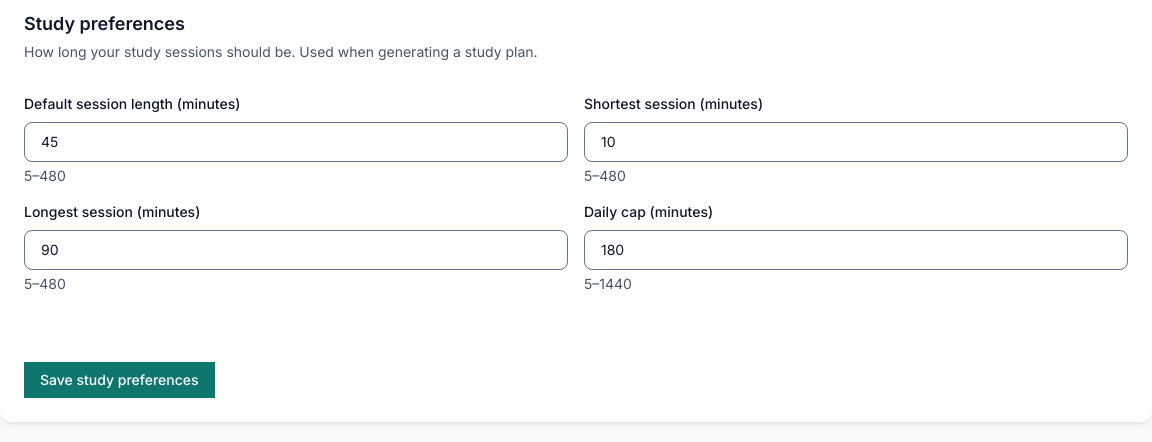
Test: StudyPreferencesForm validation › blocks submit on an out-of-range value and names the field
Replace the text in the number field labelled "Default session length (minutes)" with "600" at point(296, 142), box [24, 122, 568, 162]
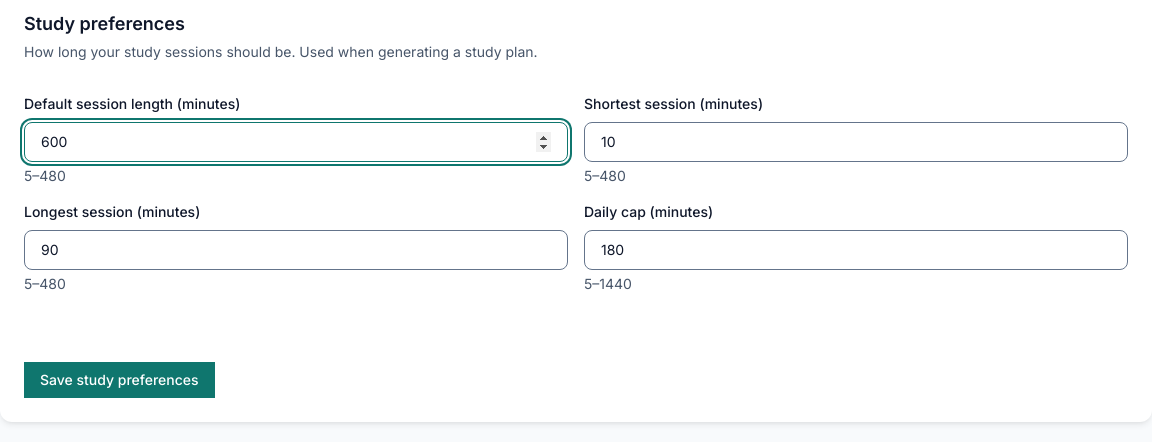
Click the button "Save study preferences".
click(119, 380)  # box [24, 362, 215, 398]
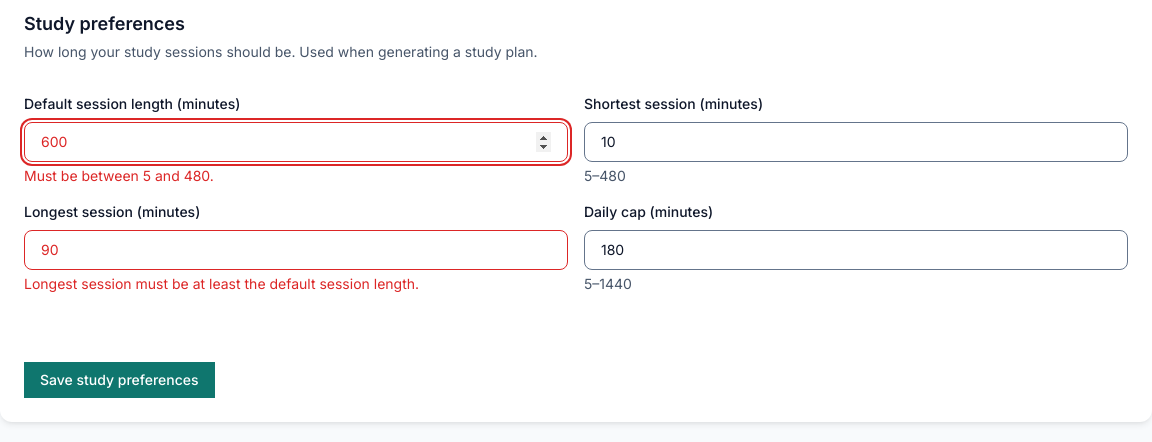
Result: the text "Must be between 5 and 480." is shown at [24, 167, 214, 184]
